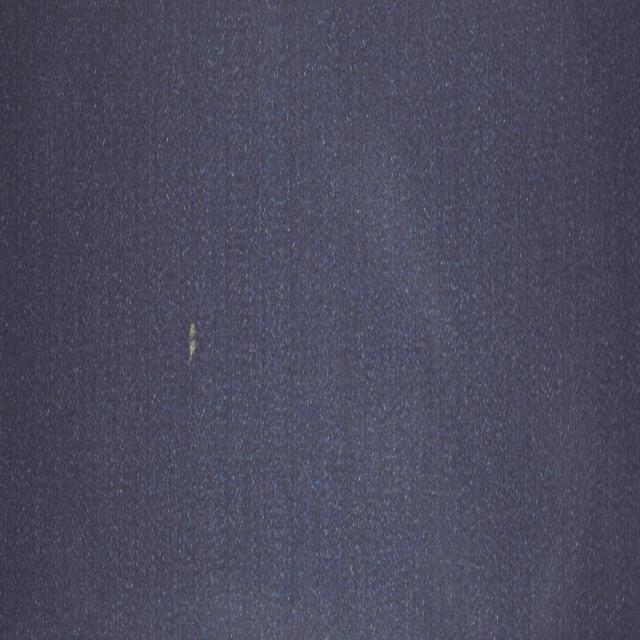Knot: (187, 321, 197, 362)
